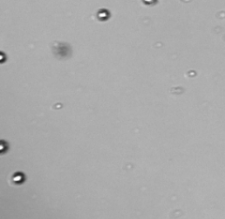Dead Cell: (53, 43, 72, 59)
Living Cell: (97, 9, 110, 21), (12, 172, 25, 183), (1, 139, 7, 155), (1, 51, 6, 64)
